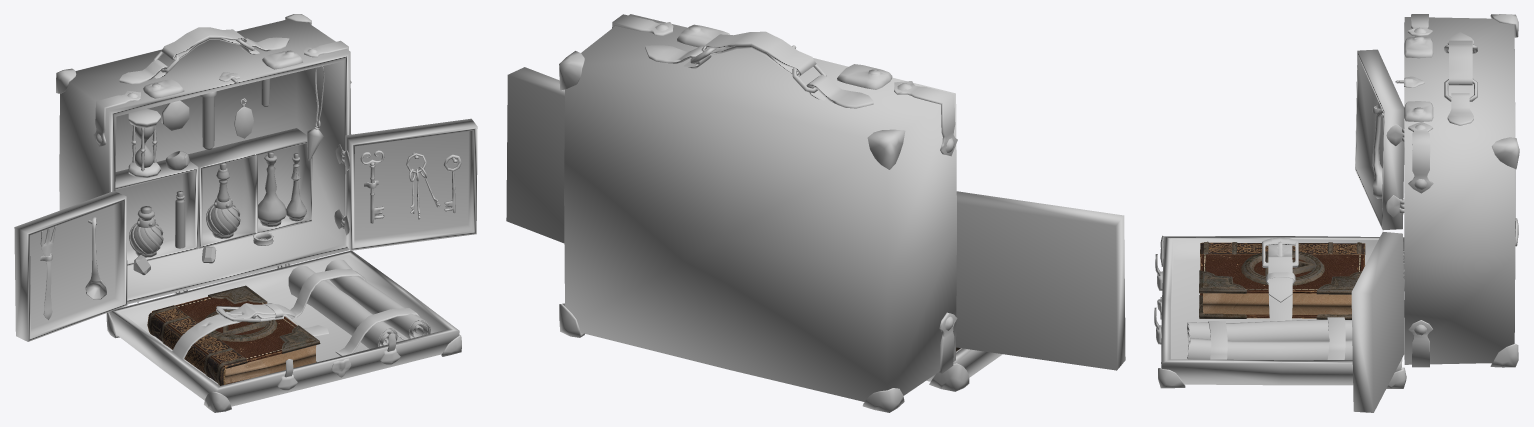
Rendered from SM_Suitcase.fbx.
3 renders of one model, left to right at view 1: azimuth 30°, elevation 25°; view 2: azimuth 150°, elevation 25°; view 3: azimuth 270°, elevation 25°, orthographic. The views are drawn at different scales.
Parts seen in each view (by area): view 1: Suitcase3; view 2: Suitcase3; view 3: Suitcase3.
Part boxes in pixels (bbox=[...]): Suitcase3: bbox=[14, 14, 477, 412]; Suitcase3: bbox=[506, 14, 1125, 412]; Suitcase3: bbox=[1154, 14, 1519, 412].
Bounding box in the file's own units: 109 × 58.48 × 69.17.
